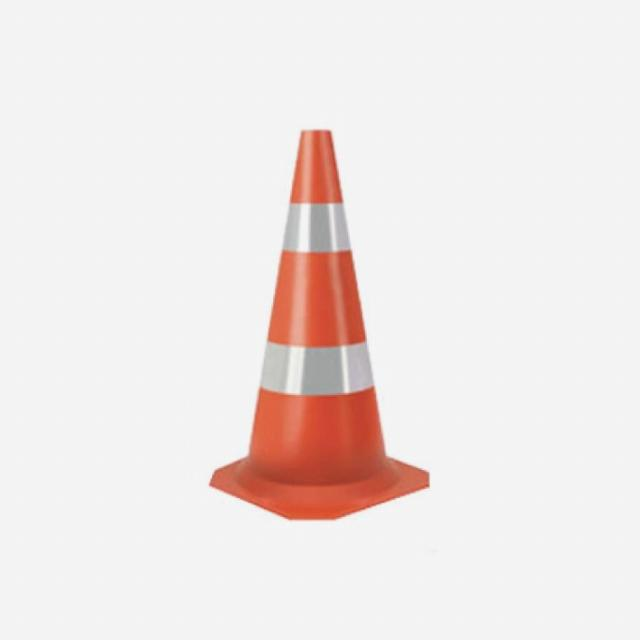cone: (190, 127, 446, 545)
